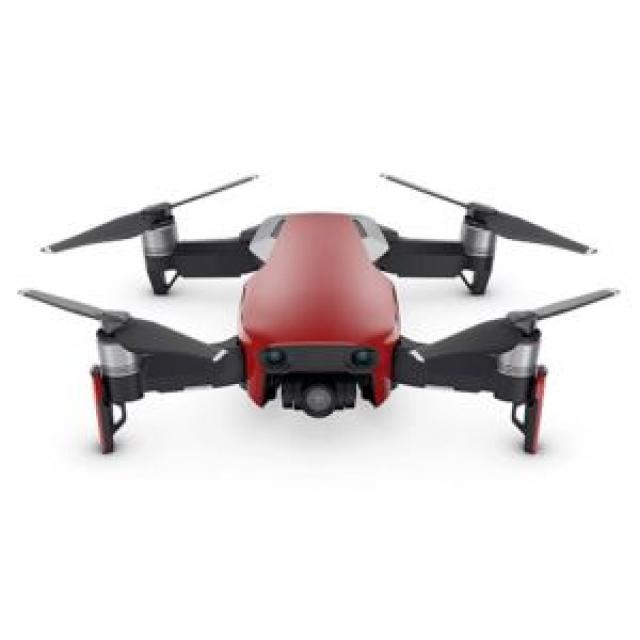drone: (38, 165, 619, 472)
